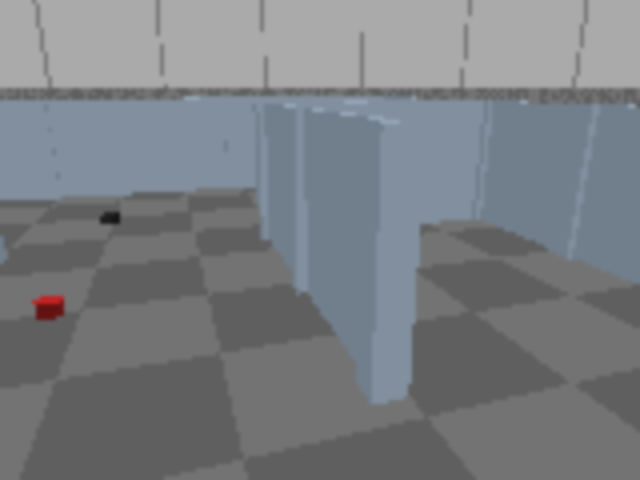puck: (38, 295, 61, 320), (99, 212, 121, 226)
